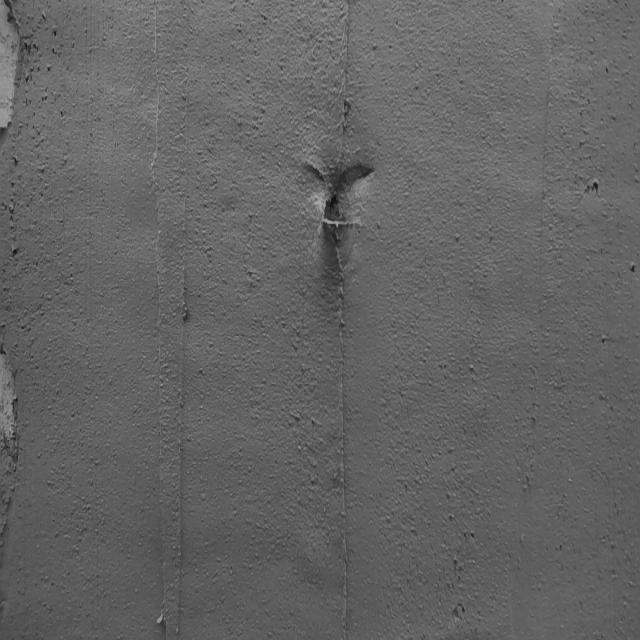trowels marks: (168, 249, 190, 633), (337, 277, 350, 639), (336, 7, 352, 154)
